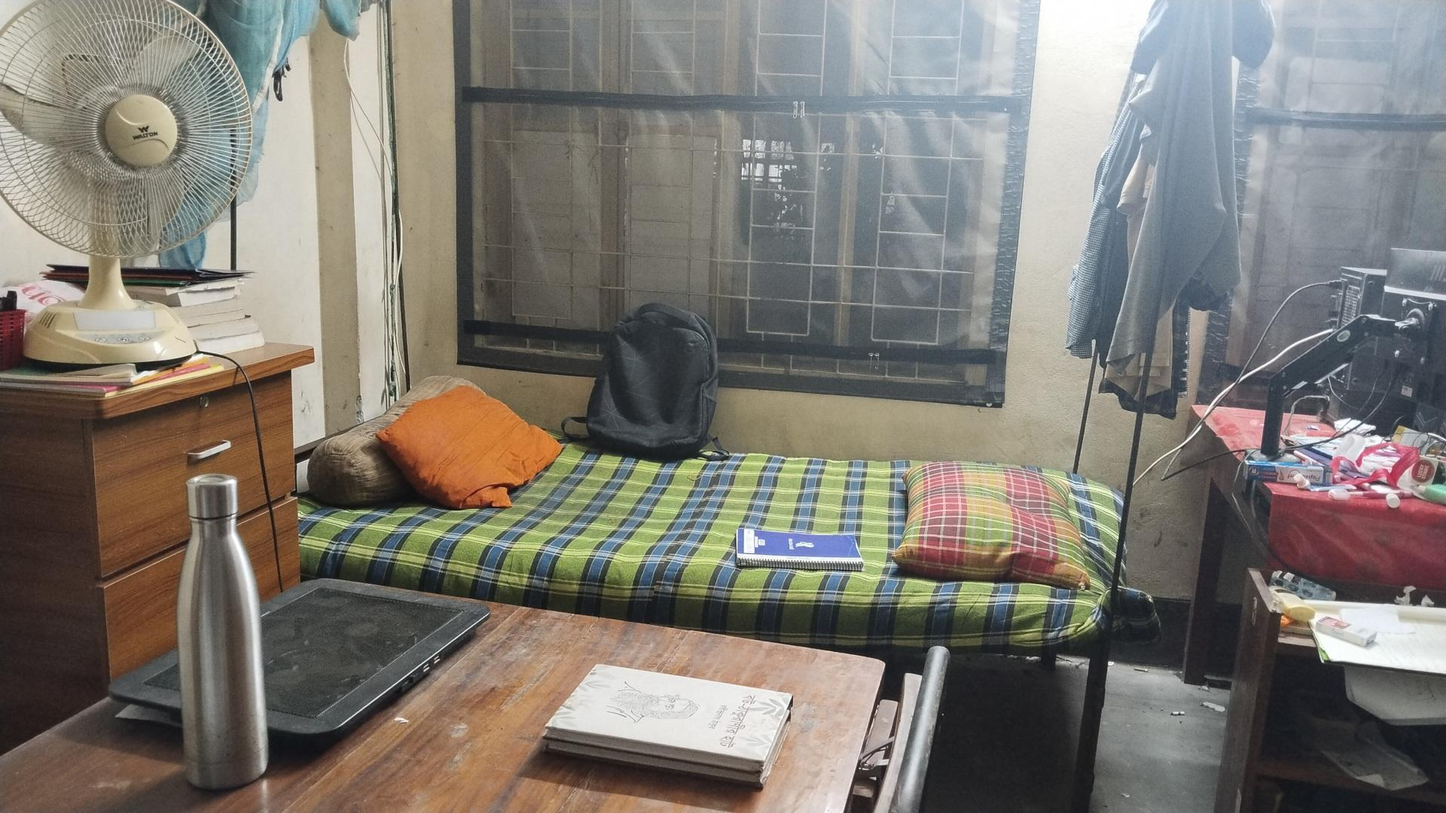Bag: (586, 303, 718, 453)
Book: (542, 655, 795, 785)
Bottle: (171, 473, 266, 781)
Fan: (2, 0, 253, 365)
Notebook: (731, 527, 864, 568)
Pillow: (901, 466, 1091, 587), (382, 385, 564, 506)
Window: (466, 0, 606, 354), (859, 0, 987, 378), (734, 2, 850, 366), (614, 1, 725, 375)
